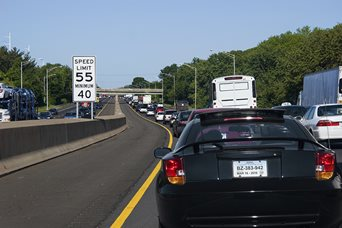license plate: (231, 159, 269, 179)
